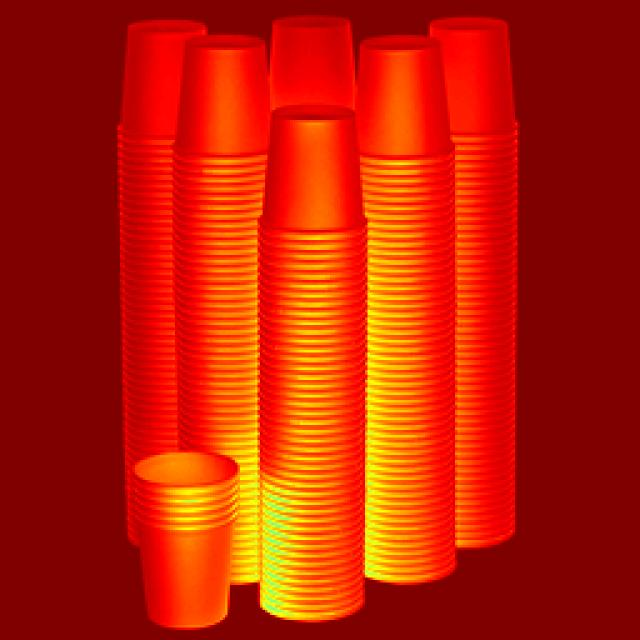Paper Cups: (362, 29, 461, 592), (266, 113, 361, 608), (438, 6, 524, 546), (185, 34, 266, 460), (123, 7, 189, 450), (128, 457, 246, 624), (270, 18, 352, 104)
